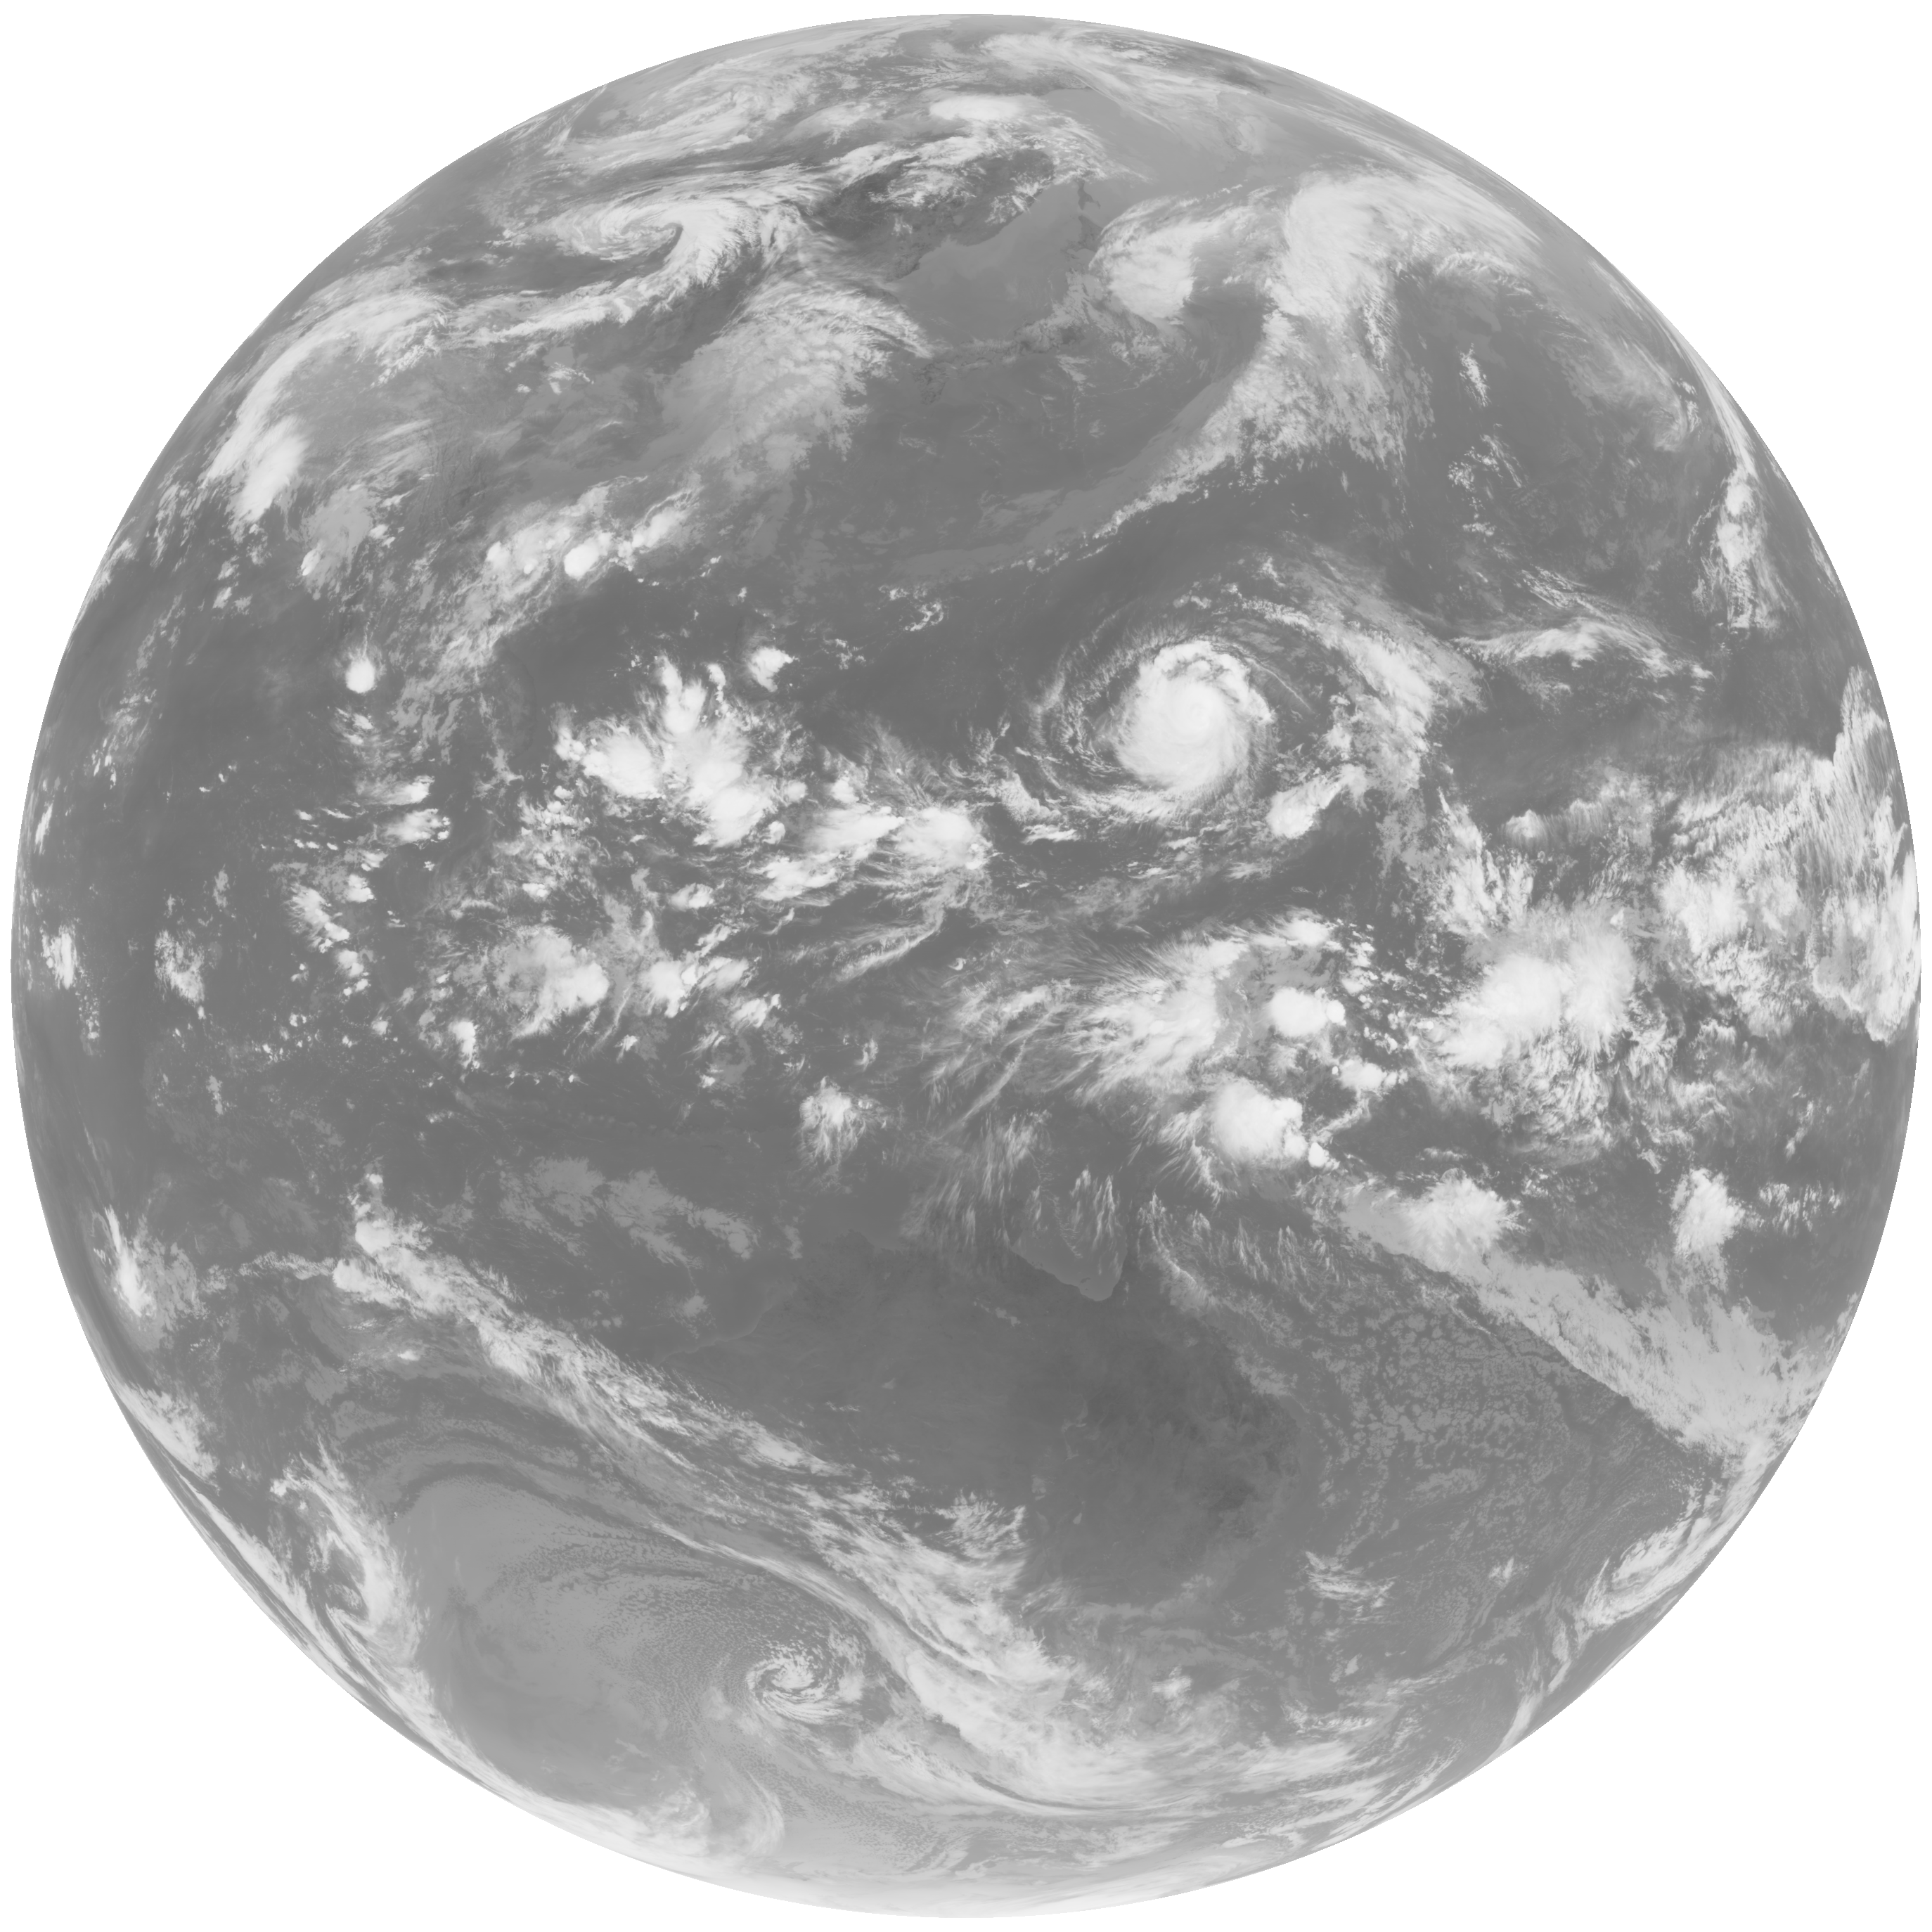typhoon: (959, 564, 1419, 916)
